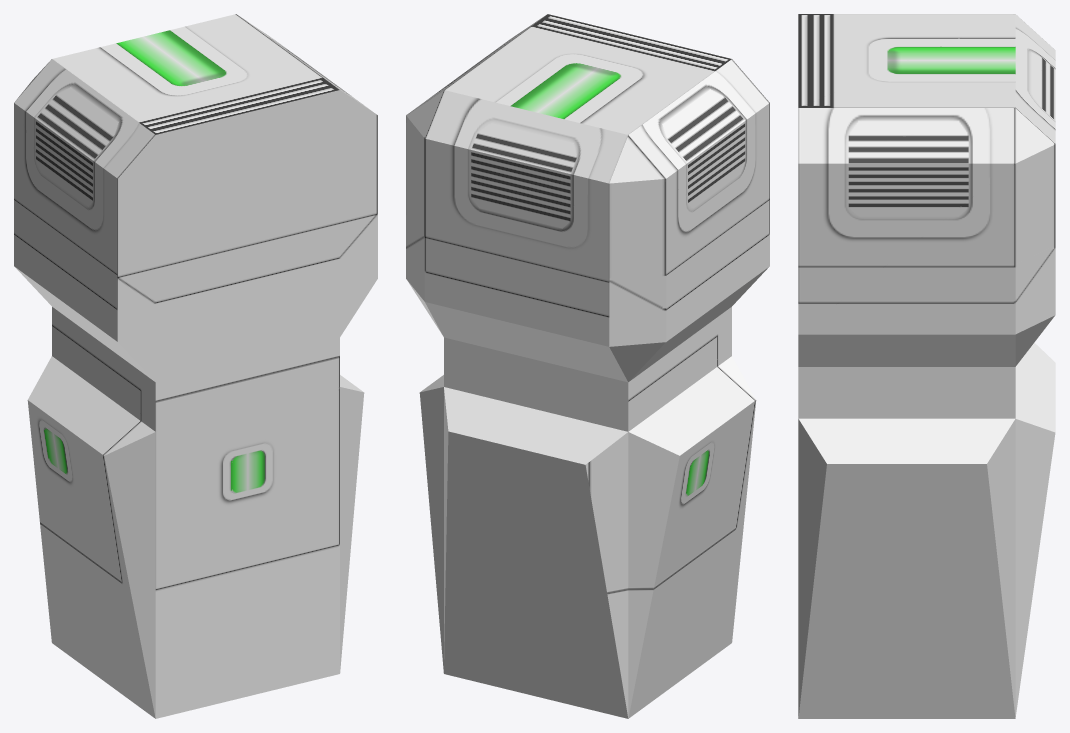
Rendered from custom_left_arm.obj.
3 views of the same model, side by side, from view 1: azimuth 30°, elevation 25°; view 2: azimuth 150°, elevation 25°; view 3: azimuth 270°, elevation 25° (orthographic). The views are drawn at different scales.
Parts seen in each view (by area): view 1: Cube.003; view 2: Cube.003; view 3: Cube.003.
Boxes of the visible parts, box(x1,y1,x2,y2) form: Cube.003: box(14, 14, 377, 718); Cube.003: box(406, 14, 769, 718); Cube.003: box(798, 14, 1055, 718).
Bounding box in the file's own units: 5.5 × 11.8 × 4.5.
